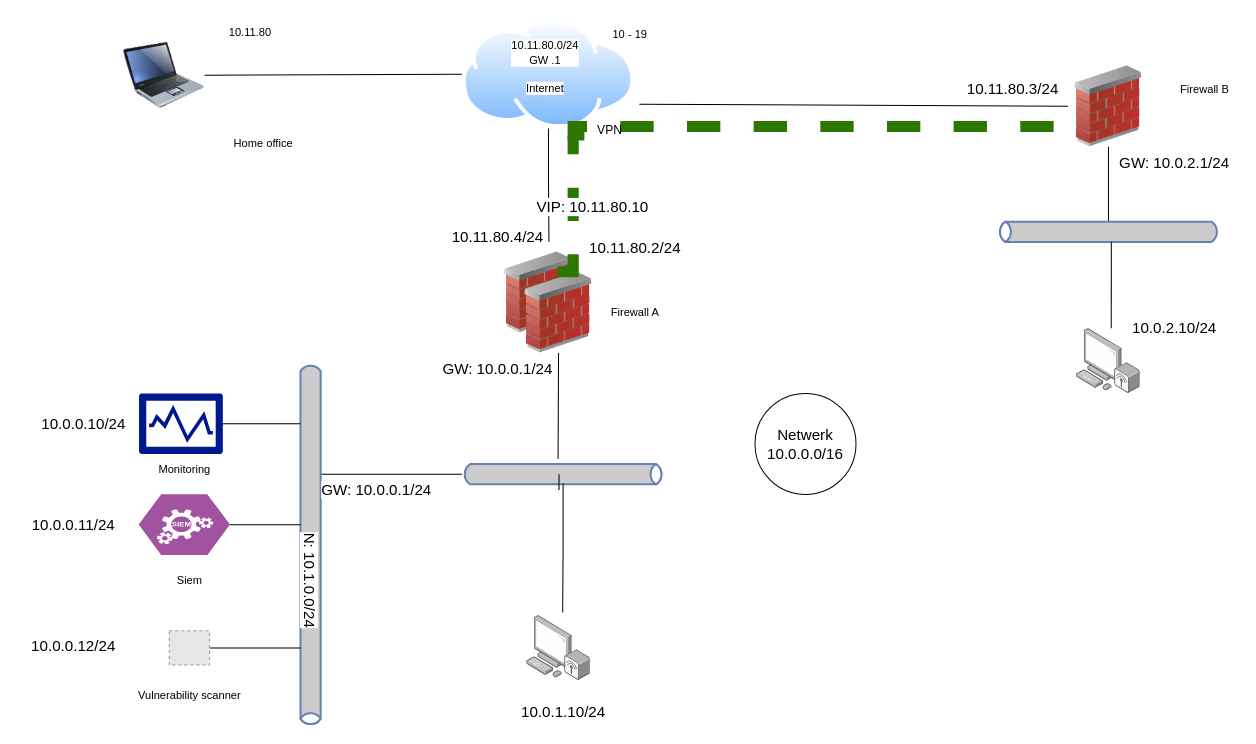
Some shapes in this 1256 by 744 pixel diagram are drawn without their labels. Grey dashed boxes stand in for pictures. Each missing label, with the box of its shape:
N: 10.0.0.1/16: (461, 463, 665, 485)
N: 10.0.2 .0/24: (996, 220, 1220, 242)
